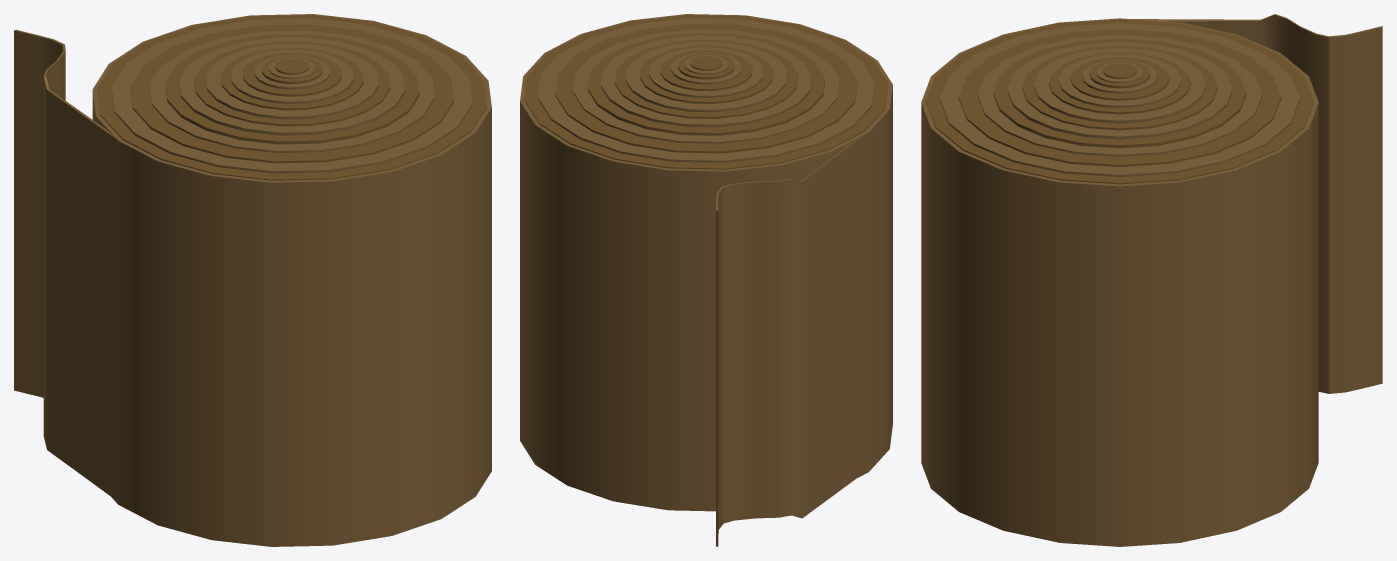
Rendered from bandaid.obj.
3 renders of one model, left to right at view 1: azimuth 30°, elevation 25°; view 2: azimuth 150°, elevation 25°; view 3: azimuth 270°, elevation 25°, orthographic. The views are drawn at different scales.
Parts seen in each view (by area): view 1: pCylinder74; view 2: pCylinder74; view 3: pCylinder74.
Boxes of the visible parts, x1,y1,x2,y2 form: pCylinder74: (14, 14, 491, 546); pCylinder74: (520, 14, 892, 546); pCylinder74: (921, 14, 1382, 546).
Size of the model in its own units: 1.92 by 2.1 by 2.22.
